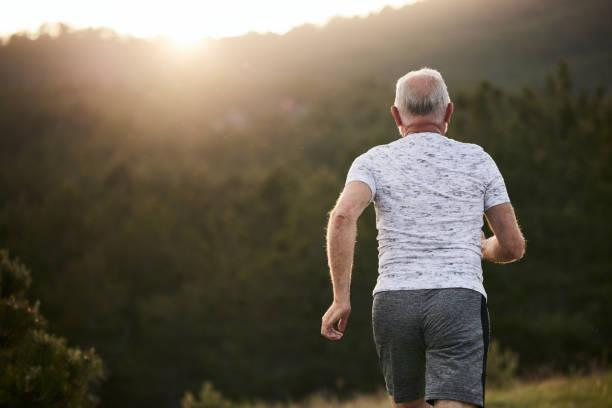Human: (333, 67, 521, 408)
